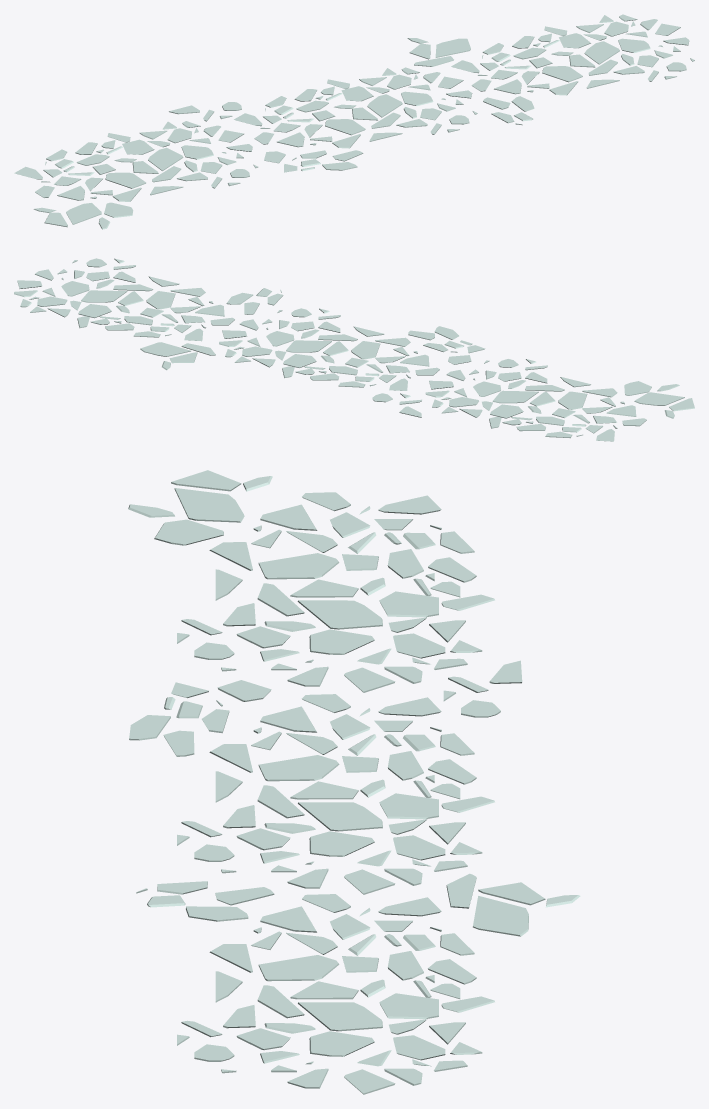
Rendered from asset.glb.
3 views of the same model, one above another, from view 1: azimuth 30°, elevation 25°; view 2: azimuth 150°, elevation 25°; view 3: azimuth 270°, elevation 25° (orthographic). The views are drawn at different scales.
Parts seen in each view (by area): view 1: Cube_cell.158, Cube_cell.036, Cube_cell.133, Cube_cell.163, Cube_cell.083, Cube_cell.067, Cube_cell.017, Cube_cell.117, Cube_cell.075, Cube_cell.125, Cube_cell.026, Cube_cell.084 (+3 smaller); view 2: Cube_cell.158, Cube_cell.163, Cube_cell.083, Cube_cell.133, Cube_cell.036, Cube_cell.117, Cube_cell.017, Cube_cell.067, Cube_cell.037, Cube_cell.084, Cube_cell.134, Cube_cell.162 (+3 smaller); view 3: Cube_cell.083, Cube_cell.036, Cube_cell.133, Cube_cell.163, Cube_cell.158, Cube_cell.067, Cube_cell.017, Cube_cell.117, Cube_cell.084, Cube_cell.134, Cube_cell.037, Cube_cell.125 (+3 smaller).
Part boxes in pixels (x1=…): Cube_cell.158: x1=435, y1=38, x2=470, y2=57; Cube_cell.036: x1=367, y1=94, x2=402, y2=117; Cube_cell.133: x1=584, y1=41, x2=619, y2=64; Cube_cell.163: x1=66, y1=203, x2=101, y2=224; Cube_cell.083: x1=148, y1=147, x2=183, y2=170; Cube_cell.067: x1=105, y1=172, x2=145, y2=188; Cube_cell.017: x1=325, y1=119, x2=365, y2=135; Cube_cell.117: x1=542, y1=66, x2=582, y2=82; Cube_cell.075: x1=181, y1=145, x2=213, y2=159; Cube_cell.125: x1=618, y1=38, x2=650, y2=52; Cube_cell.026: x1=401, y1=91, x2=433, y2=105; Cube_cell.084: x1=122, y1=139, x2=154, y2=154; Cube_cell.158: x1=140, y1=342, x2=190, y2=356; Cube_cell.163: x1=634, y1=392, x2=684, y2=405; Cube_cell.083: x1=492, y1=390, x2=538, y2=403; Cube_cell.133: x1=81, y1=290, x2=127, y2=302; Cube_cell.036: x1=286, y1=340, x2=331, y2=352; Cube_cell.117: x1=146, y1=291, x2=175, y2=309; Cube_cell.017: x1=351, y1=341, x2=380, y2=359; Cube_cell.067: x1=558, y1=391, x2=587, y2=409; Cube_cell.037: x1=283, y1=354, x2=316, y2=367; Cube_cell.084: x1=490, y1=404, x2=523, y2=418; Cube_cell.134: x1=78, y1=304, x2=111, y2=318; Cube_cell.162: x1=624, y1=381, x2=651, y2=395; Cube_cell.083: x1=297, y1=600, x2=382, y2=629; Cube_cell.036: x1=298, y1=802, x2=382, y2=831; Cube_cell.133: x1=298, y1=1002, x2=382, y2=1031; Cube_cell.163: x1=174, y1=488, x2=244, y2=522; Cube_cell.158: x1=473, y1=896, x2=528, y2=936; Cube_cell.067: x1=258, y1=553, x2=339, y2=579; Cube_cell.017: x1=258, y1=755, x2=339, y2=781; Cube_cell.117: x1=258, y1=955, x2=339, y2=981; Cube_cell.084: x1=379, y1=591, x2=438, y2=617; Cube_cell.134: x1=379, y1=993, x2=438, y2=1019; Cube_cell.037: x1=379, y1=793, x2=438, y2=819; Cube_cell.125: x1=309, y1=1031, x2=374, y2=1056.
Size of the model in its own units: 37.75 by 0.04 by 11.58.
